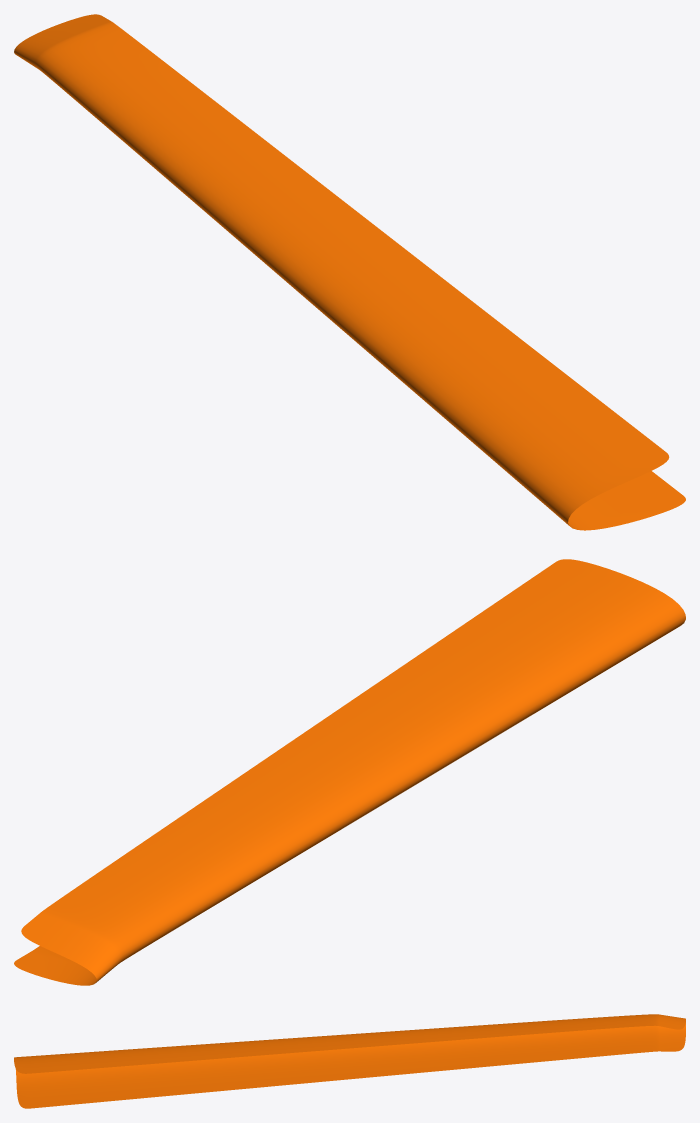
The model's file is alti_transition_aileron_left.dae.
3 renders of one model, top to bottom at view 1: azimuth 30°, elevation 25°; view 2: azimuth 150°, elevation 25°; view 3: azimuth 270°, elevation 25°, orthographic. The views are drawn at different scales.
Visible parts, largest first — view 1: ~CS_AIL_L.001; view 2: ~CS_AIL_L.001; view 3: ~CS_AIL_L.001.
Boxes of the visible parts, x1,y1,x2,y2 form: ~CS_AIL_L.001: (14, 14, 685, 530); ~CS_AIL_L.001: (14, 559, 685, 985); ~CS_AIL_L.001: (14, 1014, 685, 1108).
Bounding box in the file's own units: 0.0723 × 0.5288 × 0.0596.
Materials: 1 (1 with a texture image).
